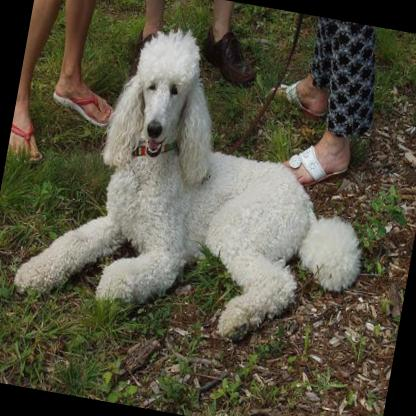standard_poodle: (9, 5, 396, 356)
